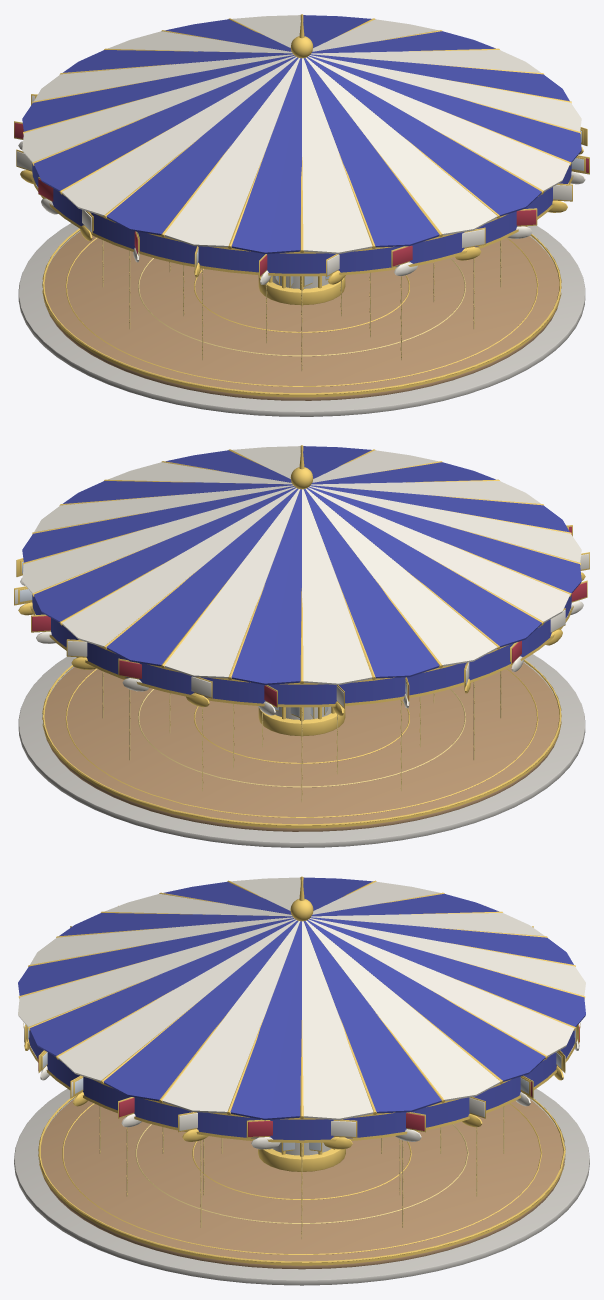
The model's file is carousel_static.glb.
3 views of the same model, one above another, from view 1: azimuth 30°, elevation 25°; view 2: azimuth 150°, elevation 25°; view 3: azimuth 270°, elevation 25° (orthographic).
Visible parts, largest first — view 1: carousel_static; view 2: carousel_static; view 3: carousel_static.
Part boxes in pixels (x1,y1,x2,y2): carousel_static: (14,14,589,416); carousel_static: (14,445,589,847); carousel_static: (14,876,589,1285).
Bounding box in the file's own units: 27.4 × 15.1 × 27.4.
